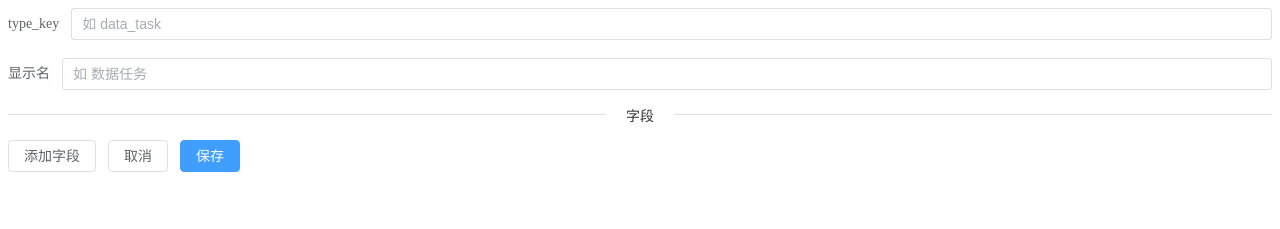
Test: 添加/删除字段行
The width and height of the screenshot is (1280, 229).
Click the button "添加字段" at (52, 156), box [8, 140, 96, 172]
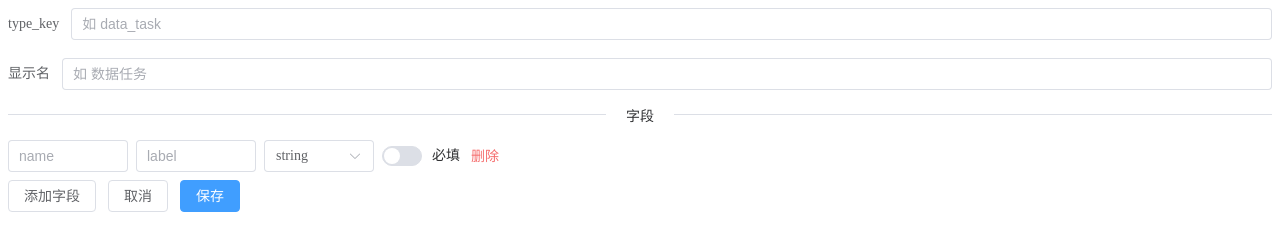
Expected: the number of elements with class "field-row" is 1, [8, 140, 502, 172]
Click the button "删除" at (485, 156), box [468, 146, 502, 166]
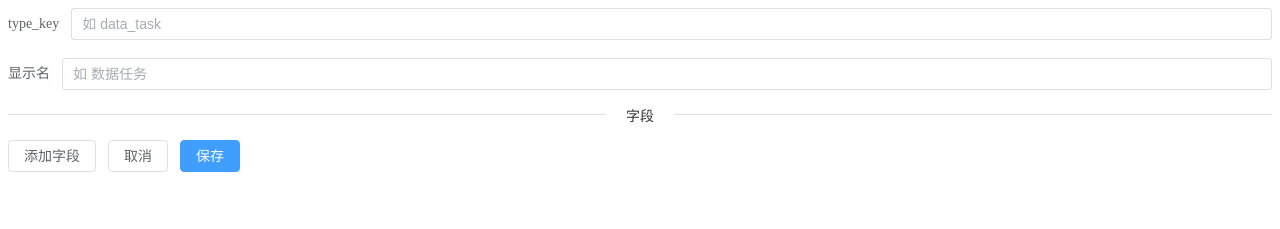
Expected: no elements with class "field-row" are shown
